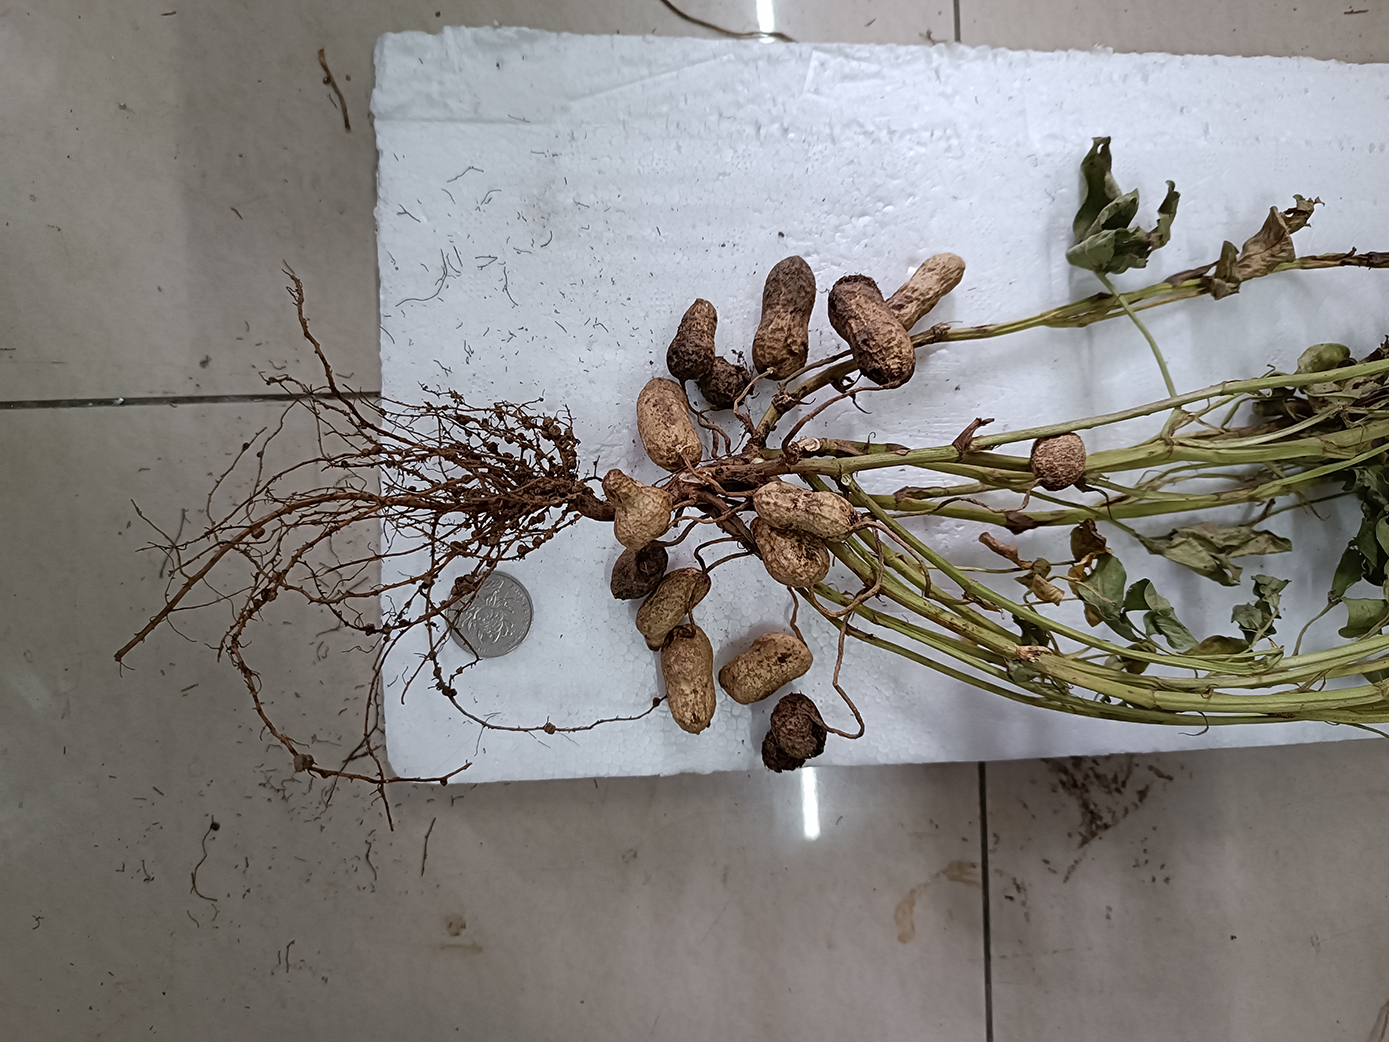h: (716, 632, 815, 705), (753, 482, 855, 546), (597, 466, 672, 549), (659, 626, 716, 736), (746, 513, 830, 588), (637, 568, 711, 647), (886, 253, 965, 326), (638, 375, 698, 471), (1030, 433, 1087, 493)
l: (825, 275, 915, 391), (753, 255, 817, 381), (762, 694, 831, 769), (668, 299, 716, 378), (612, 539, 669, 600), (701, 356, 752, 406)
